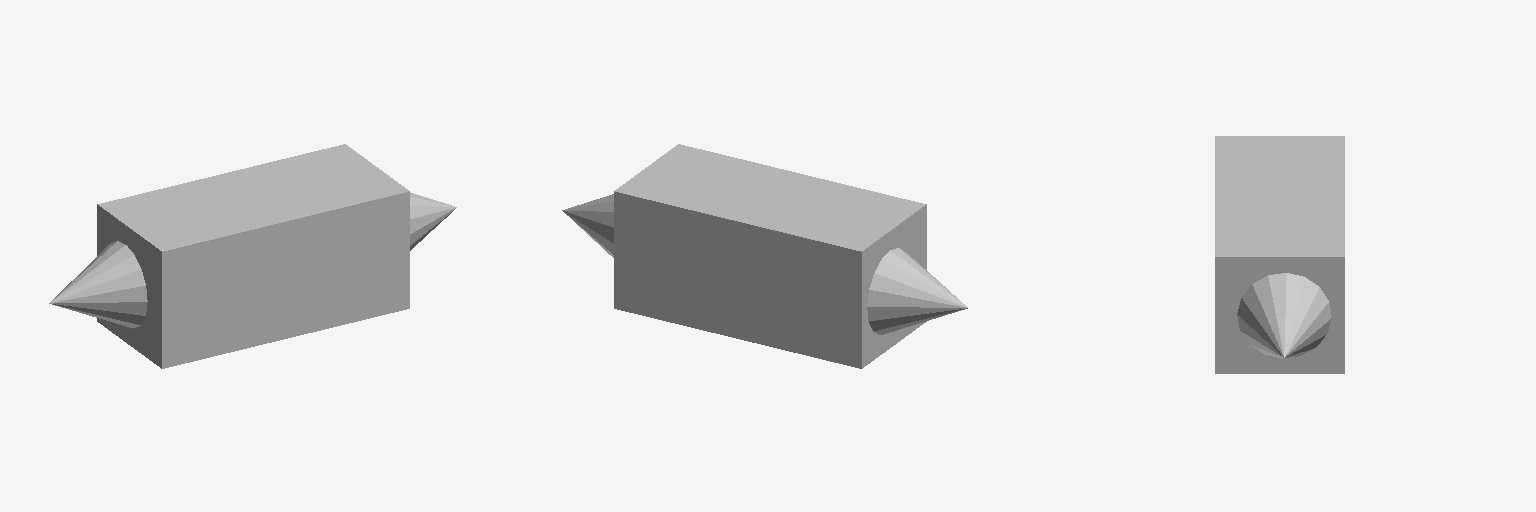
The model's file is Roll.obj.
3 views of the same model, side by side, from view 1: azimuth 30°, elevation 25°; view 2: azimuth 150°, elevation 25°; view 3: azimuth 270°, elevation 25° (orthographic).
Parts seen in each view (by area): view 1: Cube1, cone3, cone2; view 2: Cube1, cone3, cone2; view 3: Cube1, cone2.
Boxes of the visible parts, <box> form: Cube1: <box>97,144,409,368</box>; cone3: <box>49,241,147,328</box>; cone2: <box>410,192,456,250</box>; Cube1: <box>614,144,926,368</box>; cone3: <box>867,248,967,334</box>; cone2: <box>562,194,613,257</box>; Cube1: <box>1215,136,1344,373</box>; cone2: <box>1237,273,1331,358</box>.
Bounding box in the file's own units: 6.27 × 1.72 × 1.72.